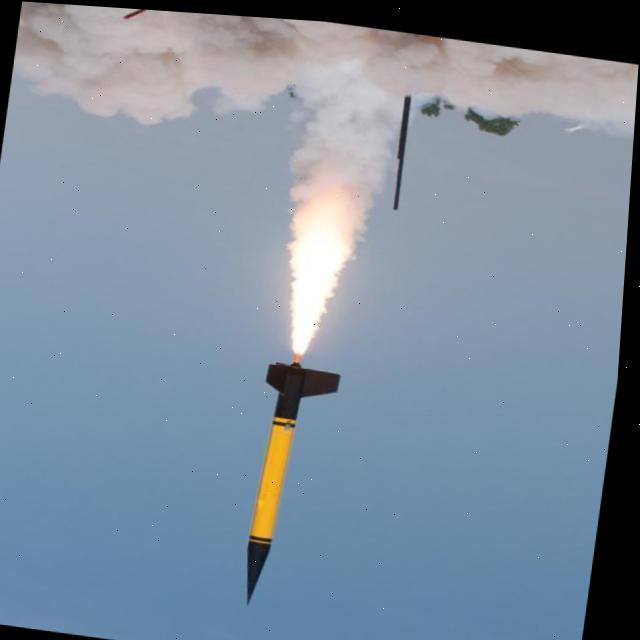missile: (237, 349, 344, 610)
